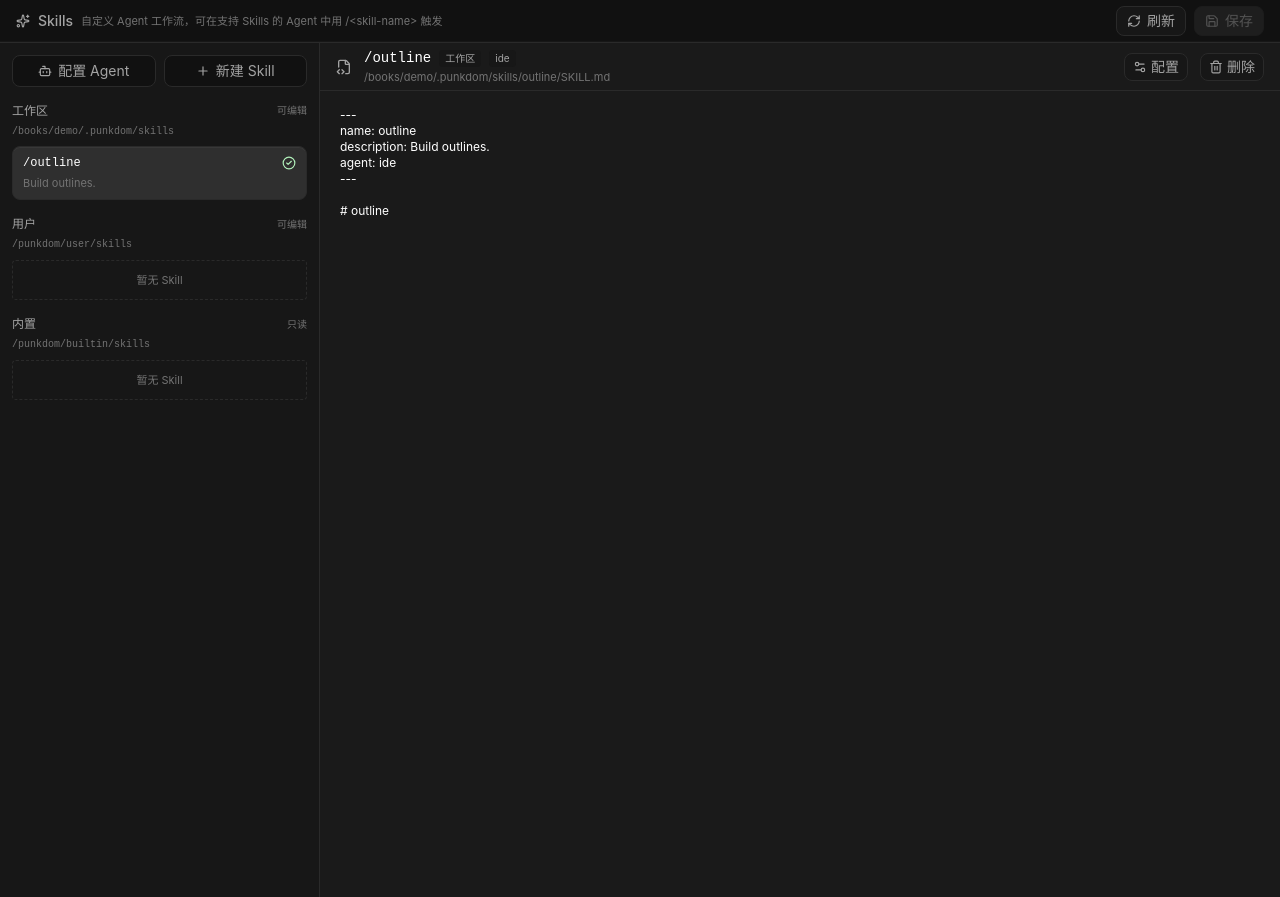
Test: SkillsView › creates a skill with scope, description, and selected agents, then opens it
The width and height of the screenshot is (1280, 897).
Check: the 2nd text "/outline" is shown, box [23, 156, 81, 170]
Click the button "新建 Skill".
click(235, 71)  # box [164, 55, 307, 87]
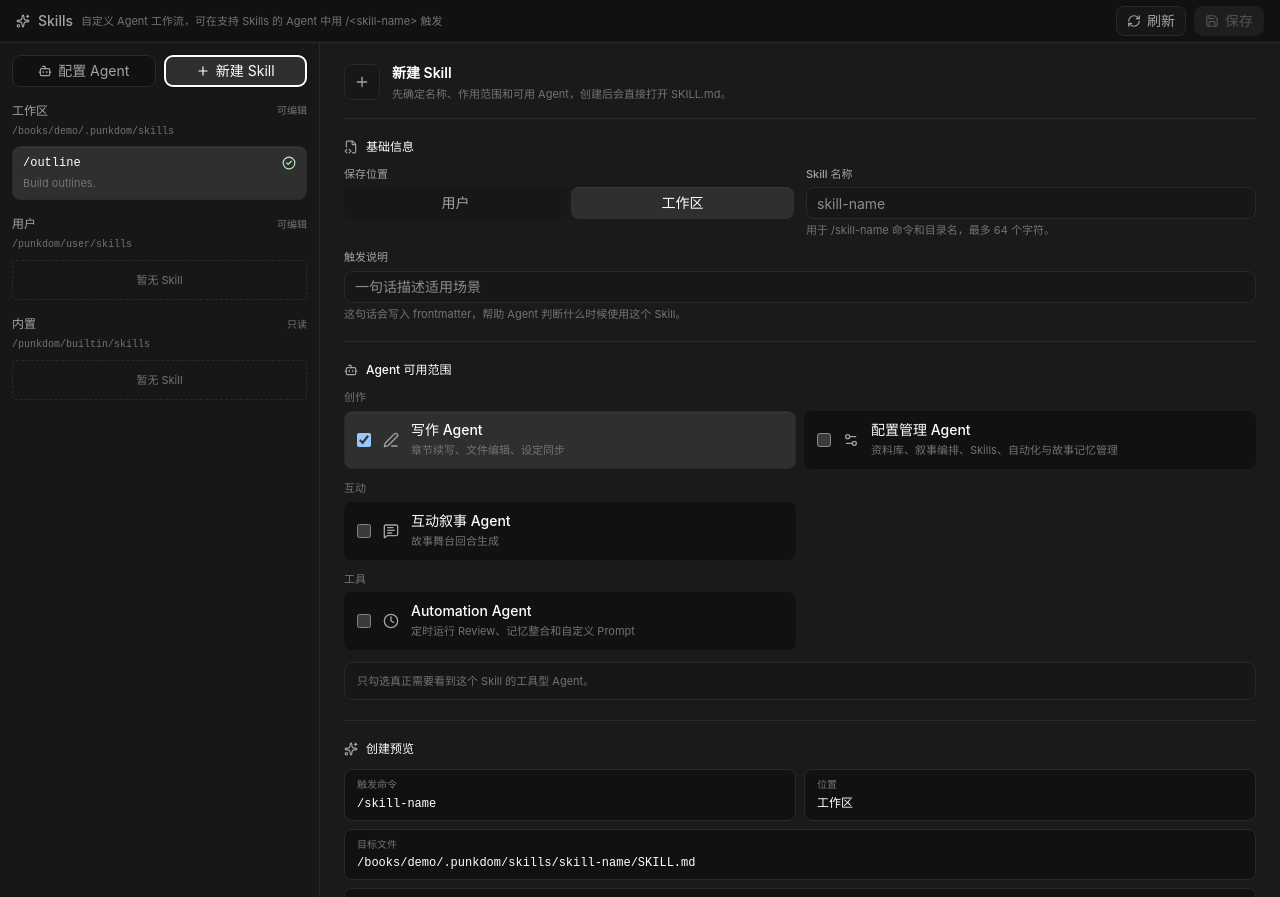
Type "beats" into the field named "Skill 名称".
click(1031, 203); type("beats")  # box [806, 187, 1256, 219]
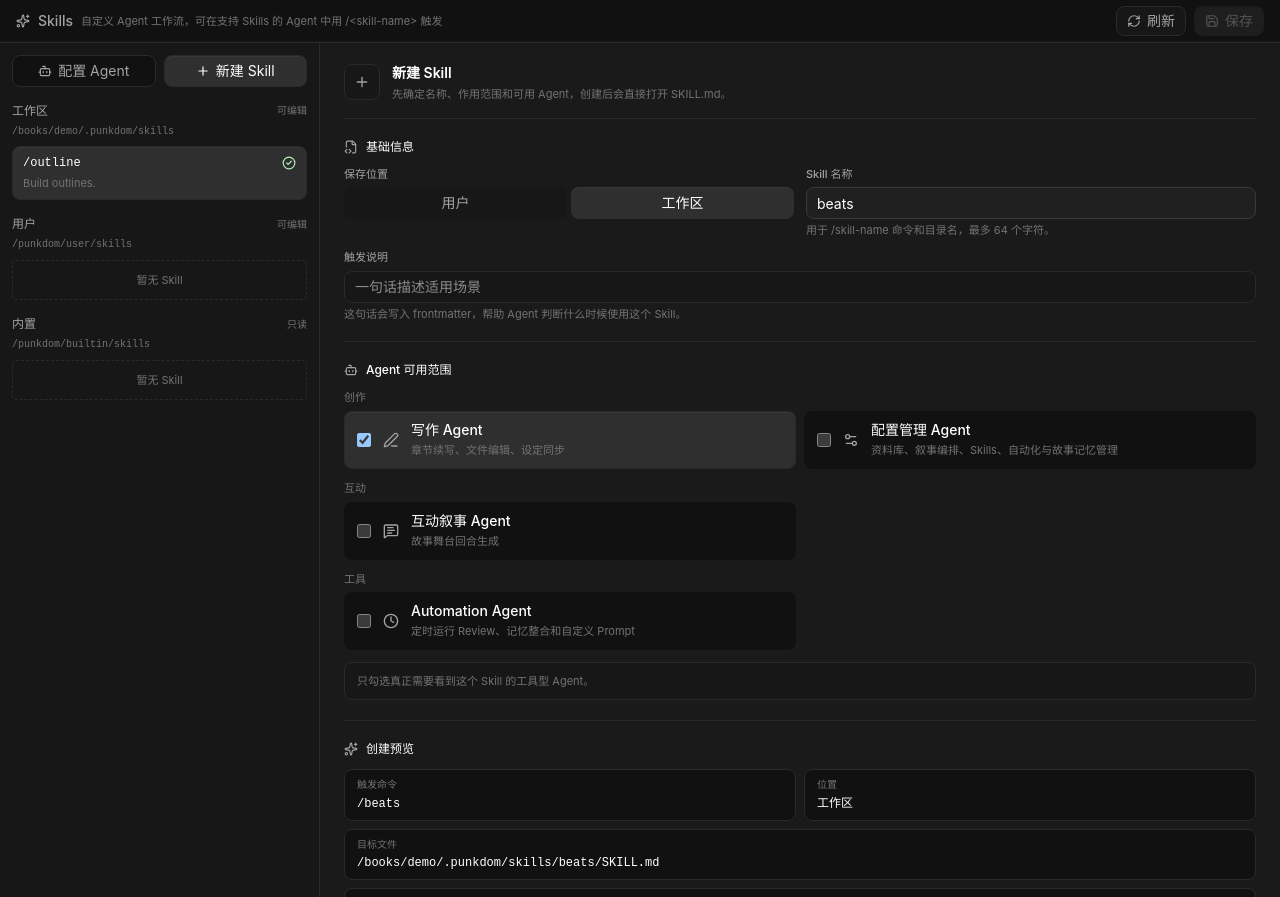
Type "Draft chapter beats." into the field named "触发说明".
click(800, 287); type("Draft chapter beats.")  # box [344, 271, 1256, 303]
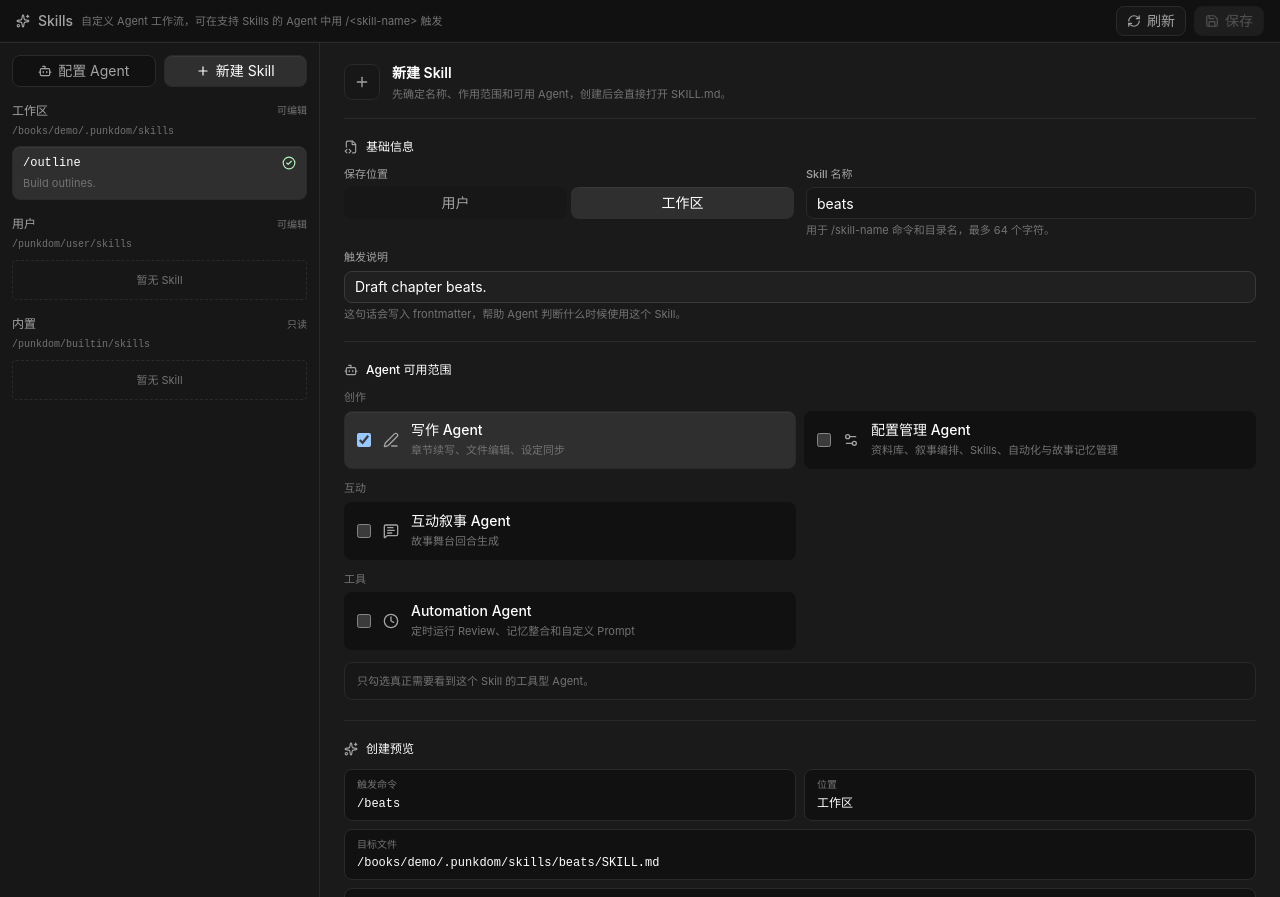
Click the checkbox labelled "配置管理 Agent 资料库、叙事编排、Skills、自动化与故事记忆管理".
click(824, 440)  # box [817, 433, 831, 447]
(page scrolled)
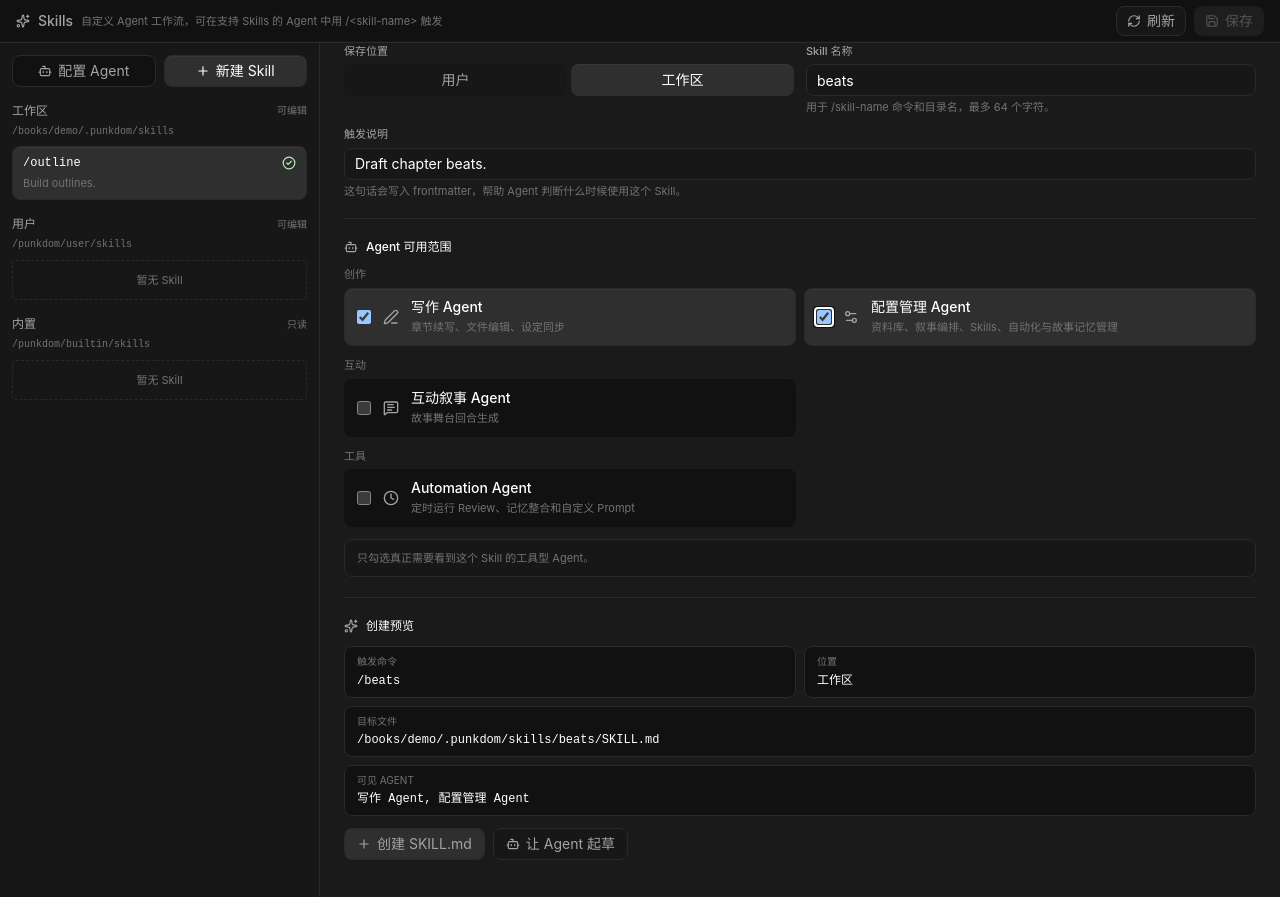
Click the button "创建 SKILL.md".
click(414, 844)  # box [344, 828, 485, 860]
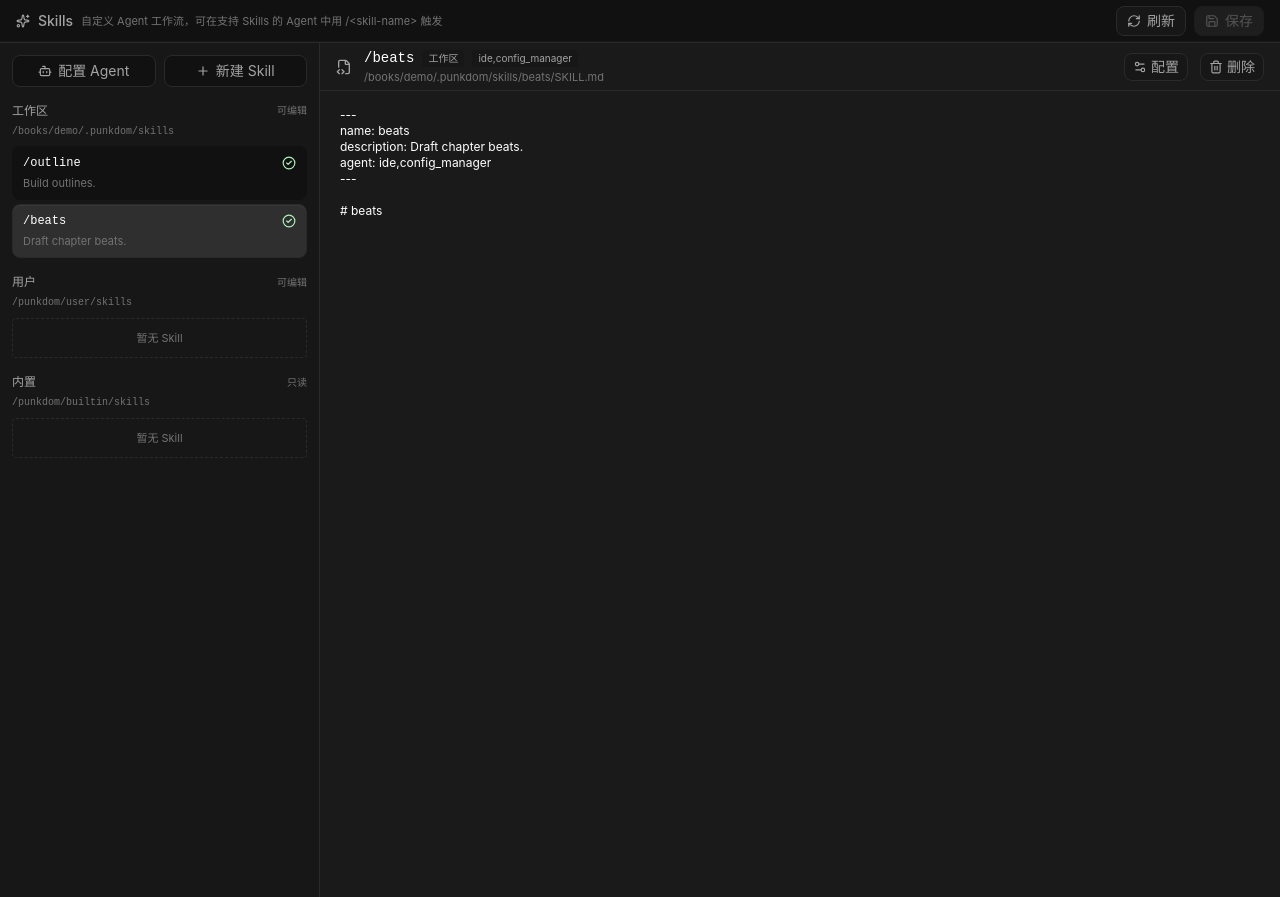
Check: the 2nd text "/beats" is shown, box [23, 214, 66, 228]
